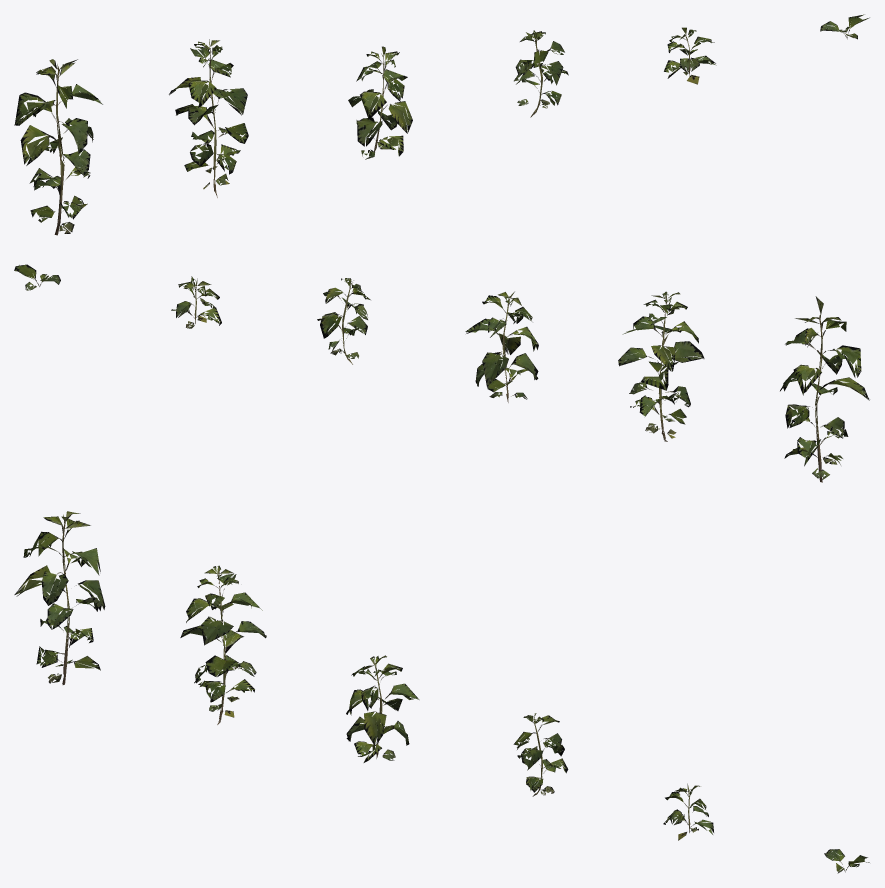
File: nettle_plant.glb
3 views of the same model, one above another, from view 1: azimuth 30°, elevation 25°; view 2: azimuth 150°, elevation 25°; view 3: azimuth 330°, elevation 25° (orthographic).
Parts seen in each view (by area): view 1: nettle_plant; view 2: nettle_plant; view 3: nettle_plant.
Boxes of the visible parts, <box> form: nettle_plant: <box>14,14,869,235</box>; nettle_plant: <box>14,264,869,482</box>; nettle_plant: <box>14,511,869,873</box>.
Size of the model in its own units: 1.08 by 0.2168 by 0.0964.
1 material, 1 textured.
